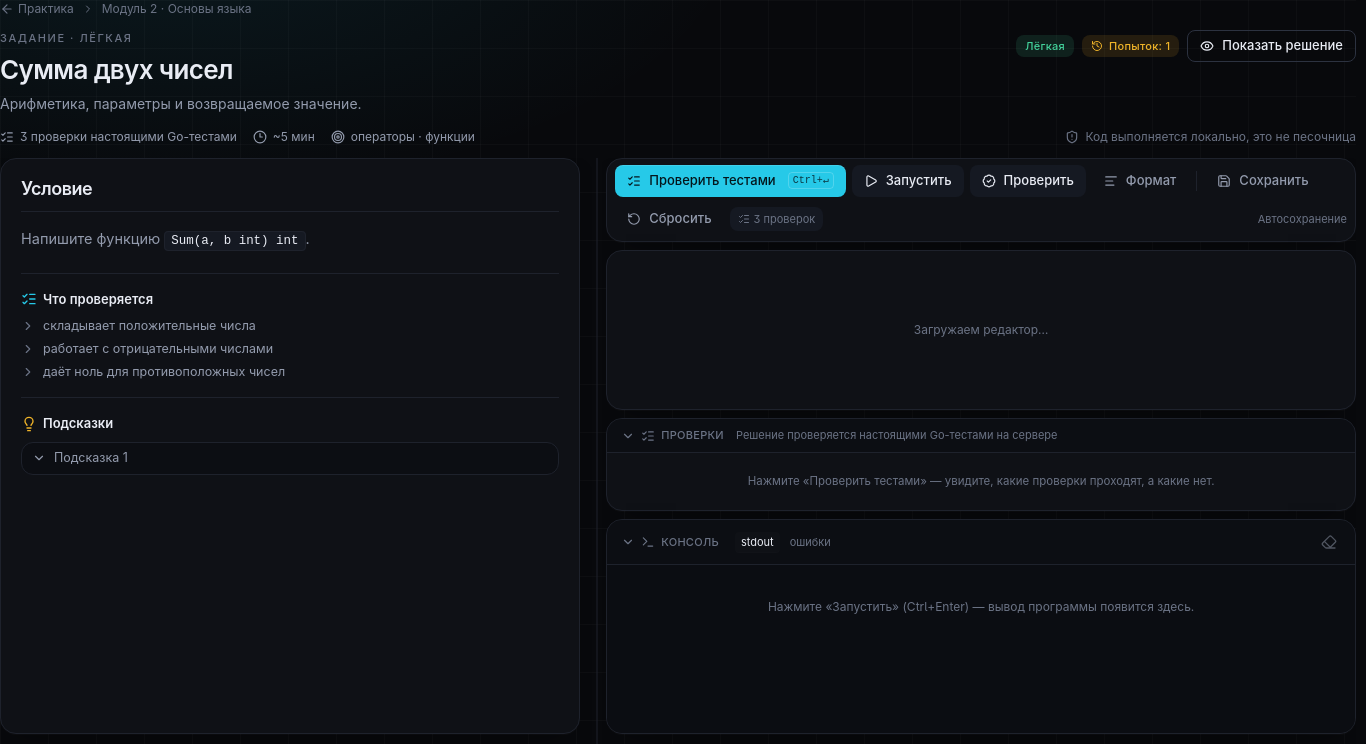
ExercisePage › показывает подсказку по требованию и эталонное решение
The image size is (1366, 744).
Expected: the text "Сложение двух int работает напрямую." is not shown
What coordinates should you click on to do the following:
click the button "Подсказка 1"
I would click on:
 (88, 457)
Its box is [22,443,558,474].
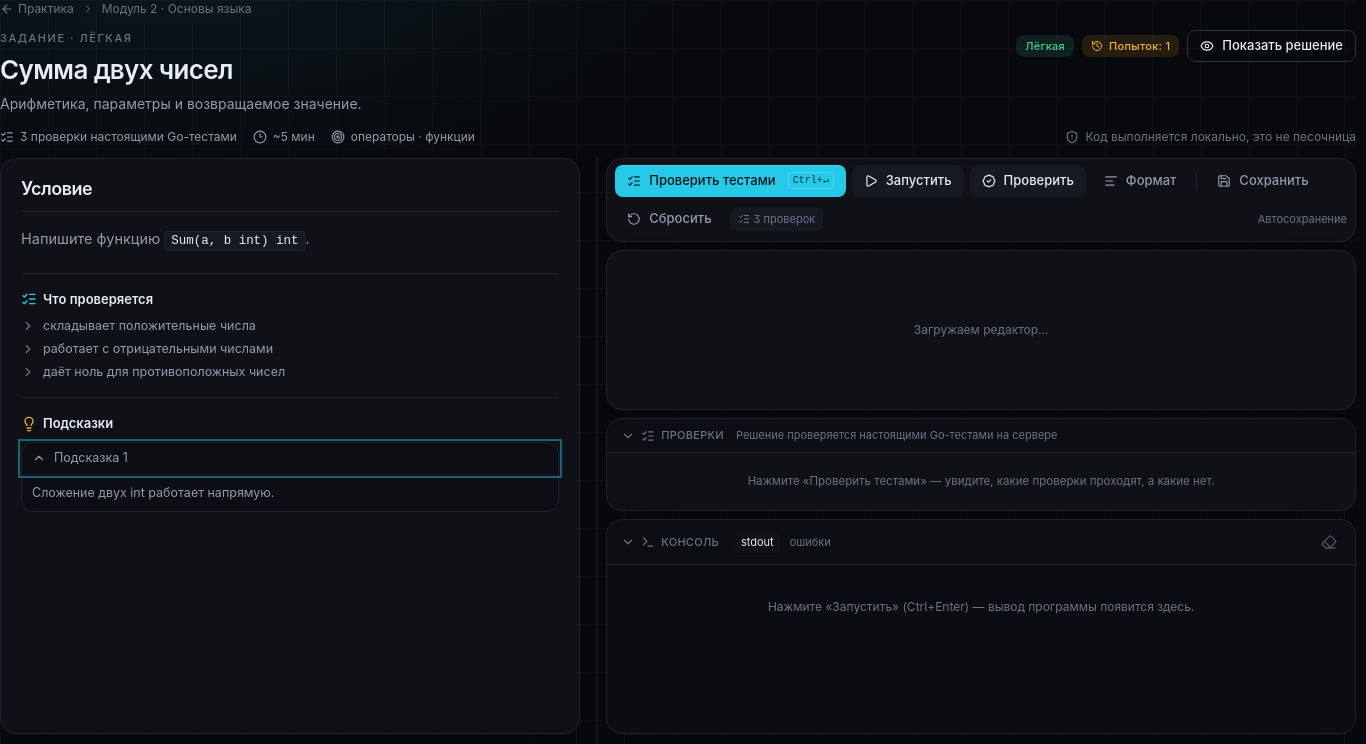
Expected: the text "Сложение двух int работает напрямую." is shown, [22,474,558,511]
What coordinates should you click on to do the following:
click the button "Показать решение"
I would click on:
 (1272, 46)
Its box is [1187,30,1356,62].
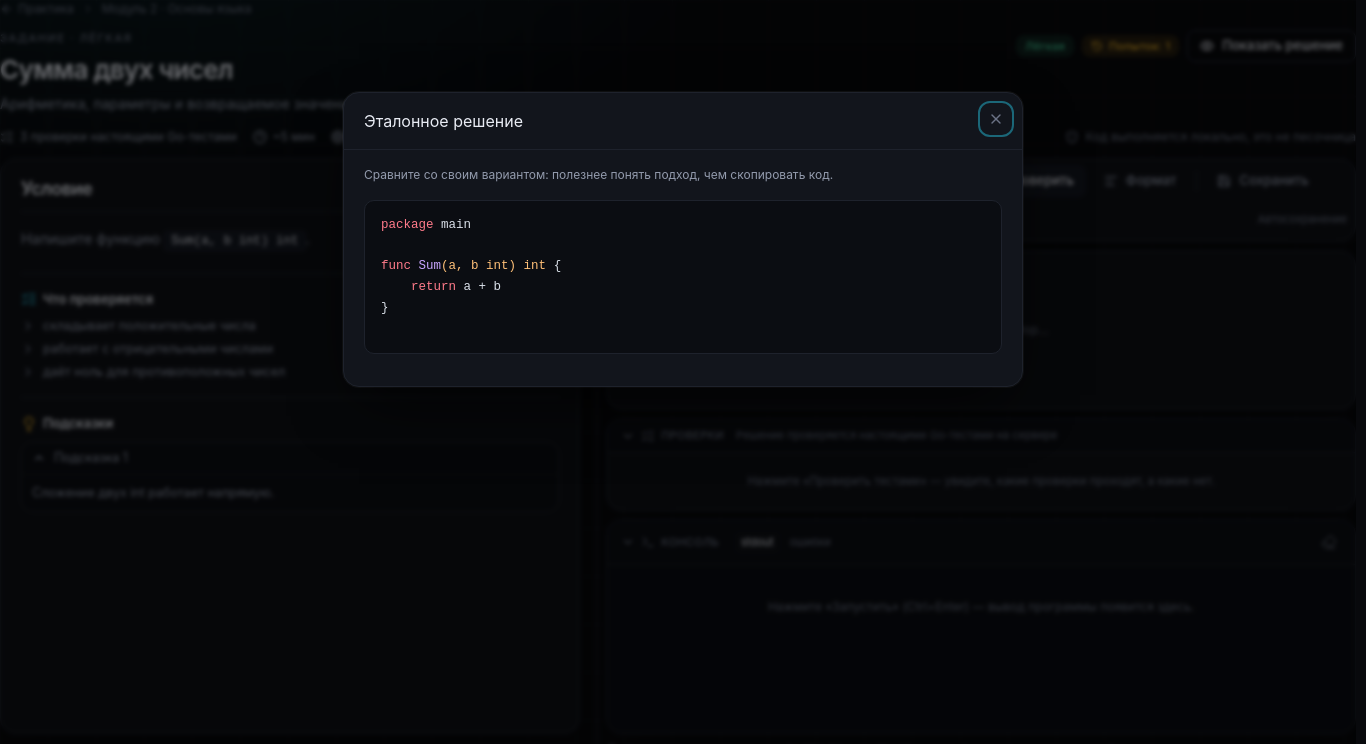
Expected: the heading "Эталонное решение" is shown, [364,111,523,131]
Expected: the dialog shows "return a + b", [343,92,1023,387]
